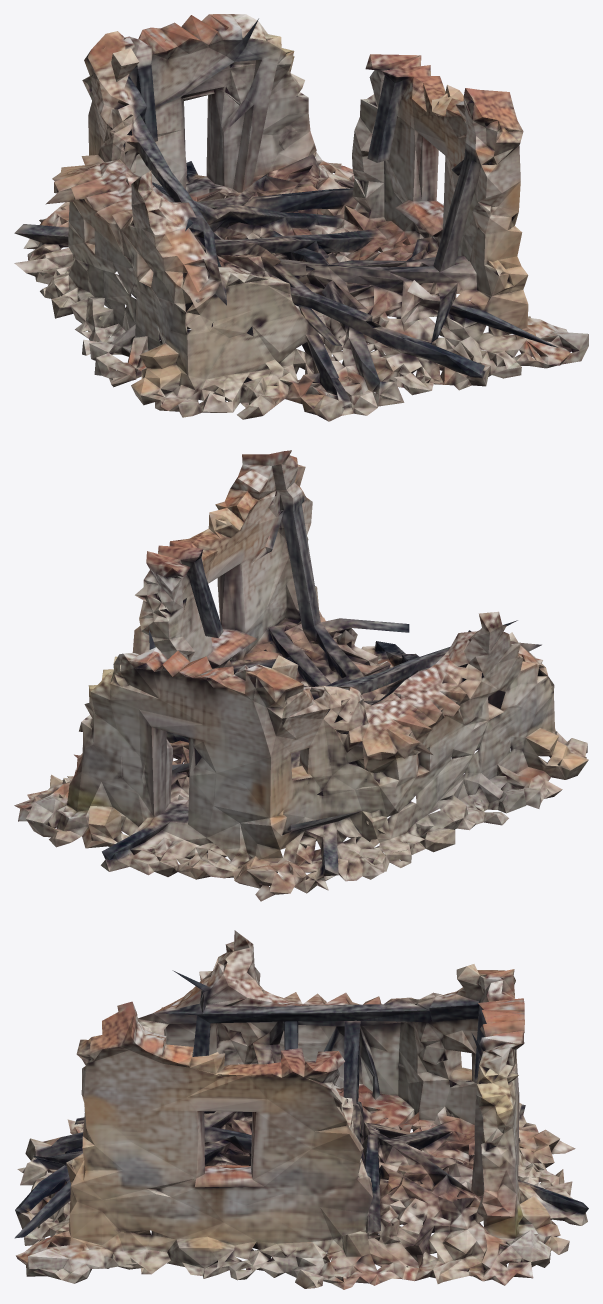
The model's file is it_ruin.obj.
3 renders of one model, top to bottom at view 1: azimuth 30°, elevation 25°; view 2: azimuth 150°, elevation 25°; view 3: azimuth 270°, elevation 25°, orthographic. The views are drawn at different scales.
Parts seen in each view (by area): view 1: it_ruin; view 2: it_ruin; view 3: it_ruin.
Boxes of the visible parts, x1=… form: it_ruin: x1=14, y1=14, x2=588, y2=421; it_ruin: x1=14, y1=450, x2=588, y2=901; it_ruin: x1=14, y1=930, x2=588, y2=1289.
Bounding box in the file's own units: 9.08 × 5.22 × 11.
Materials: 1 (1 with a texture image).
